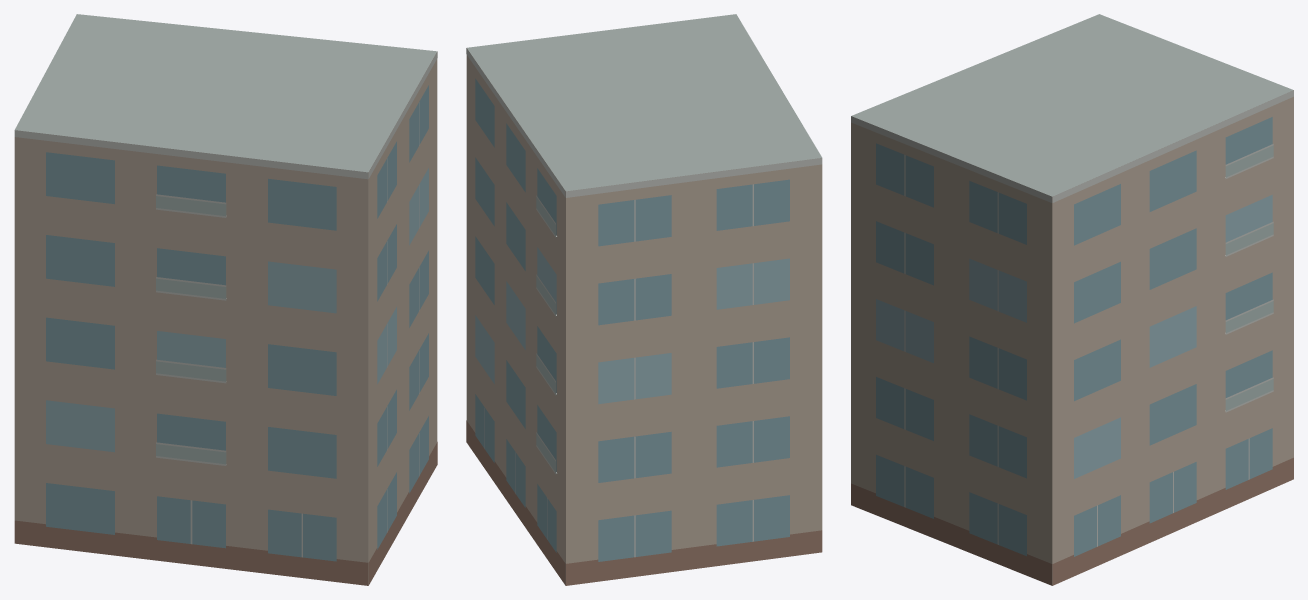
File: survey-upis-32770312.glb
The picture shows the model from 3 angles, left to right: view 1: azimuth 30°, elevation 25°; view 2: azimuth 150°, elevation 25°; view 3: azimuth 270°, elevation 25°; orthographic projection. The views are drawn at different scales.
Visible parts, largest first — view 1: survey-upis-32770312.tmp; view 2: survey-upis-32770312.tmp; view 3: survey-upis-32770312.tmp.
Boxes of the visible parts, left/top/right/bottom form: survey-upis-32770312.tmp: left=14, top=14, right=437, bottom=585; survey-upis-32770312.tmp: left=466, top=14, right=822, bottom=585; survey-upis-32770312.tmp: left=851, top=14, right=1293, bottom=585.
Bounding box in the file's own units: 14.71 × 14.6 × 15.06.
